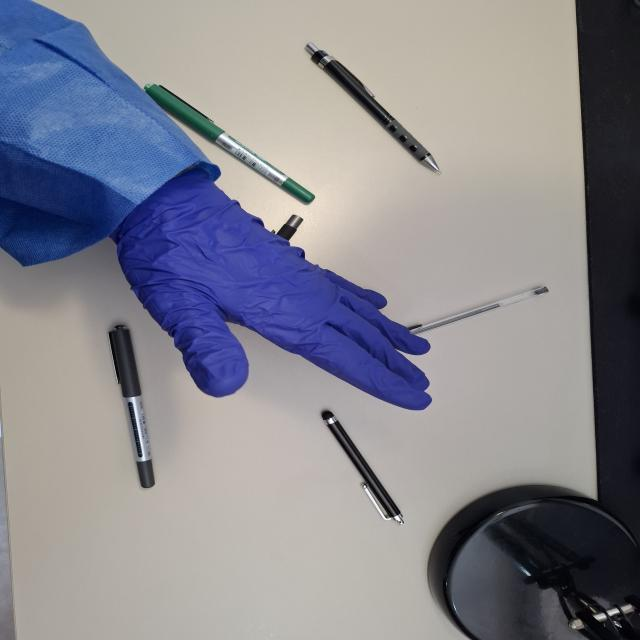glove_on: (104, 162, 436, 413)
